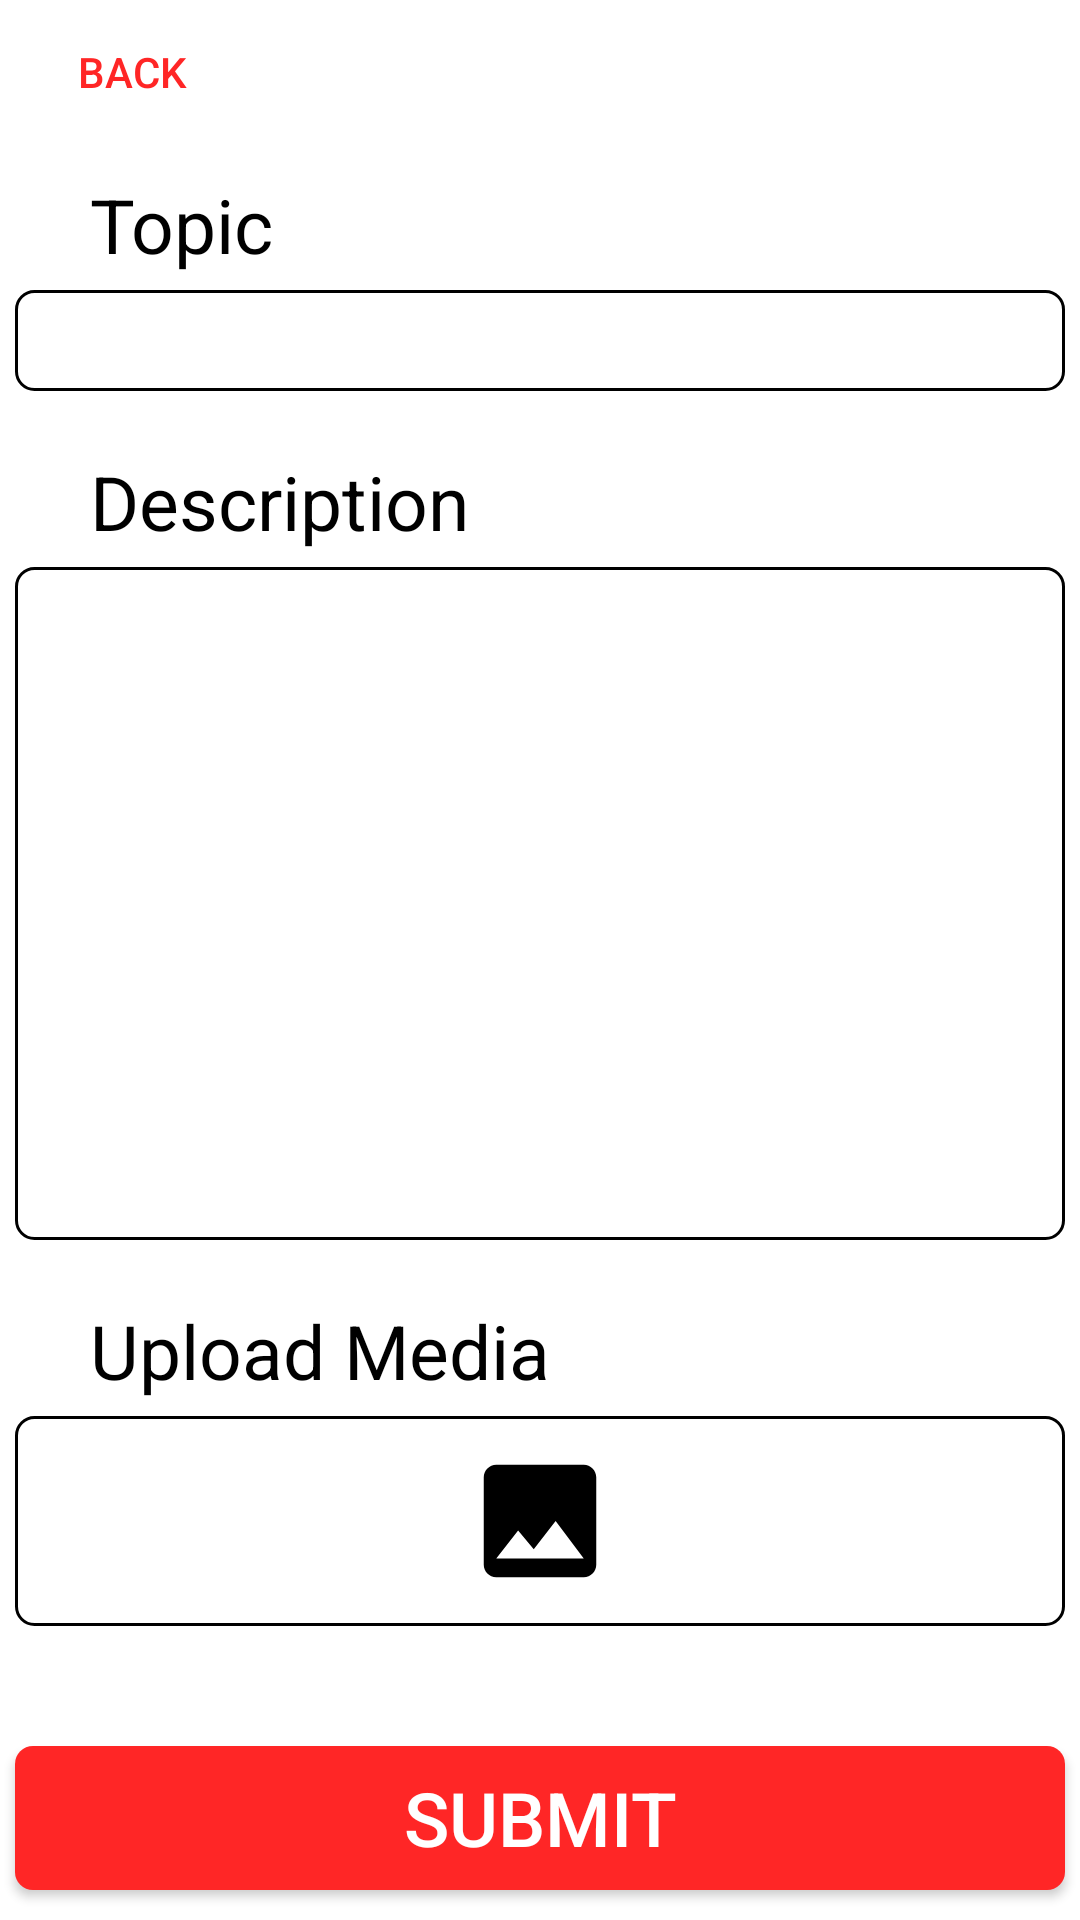

Screen size 1080 x 1920. Icon name, then its box in pixels as (x1, y1, x2, y2):
Report Media Upload: (483, 1464, 597, 1578)
